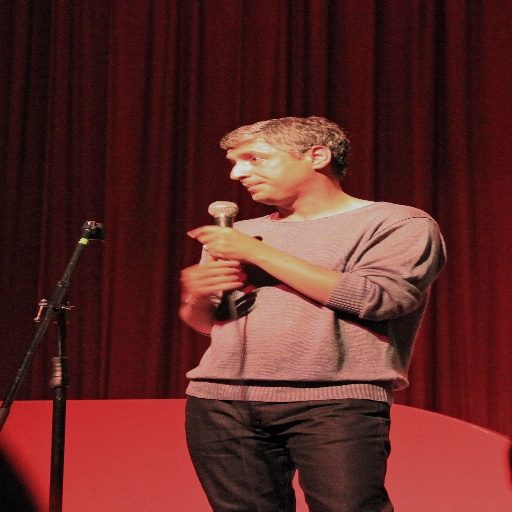hand: (178, 258, 245, 302), (186, 222, 263, 259)
